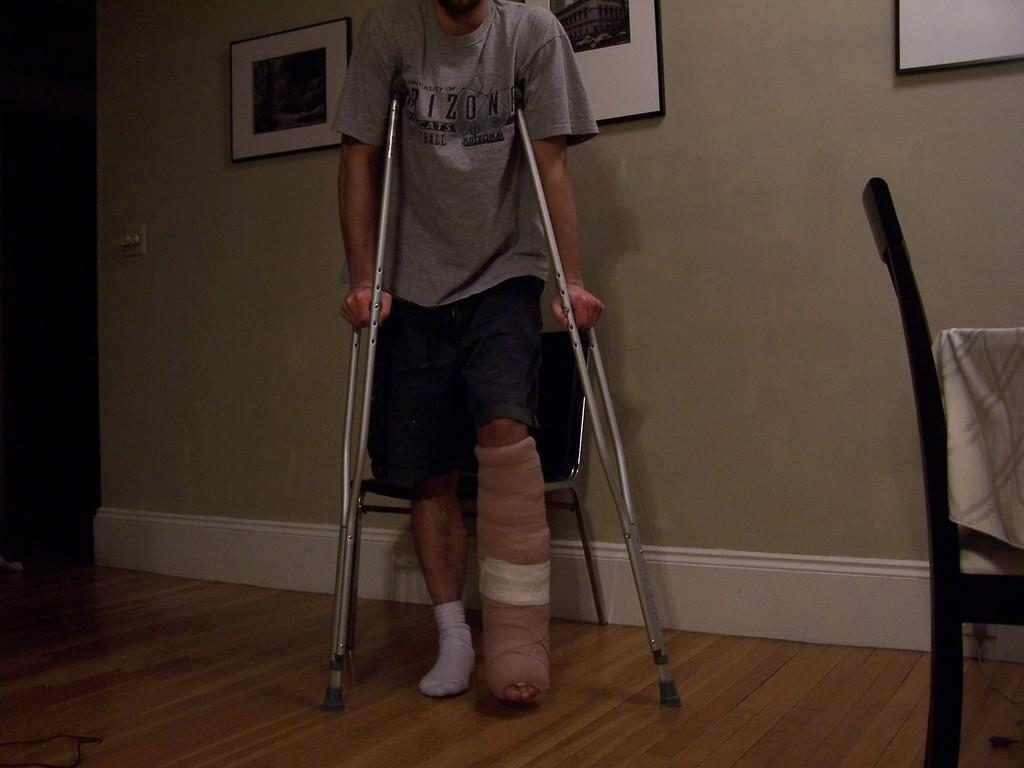crutches: (310, 0, 693, 723)
